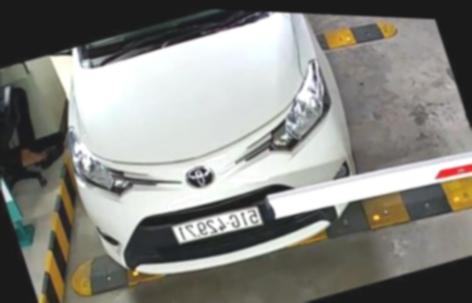License_Plate: (168, 198, 265, 255)
